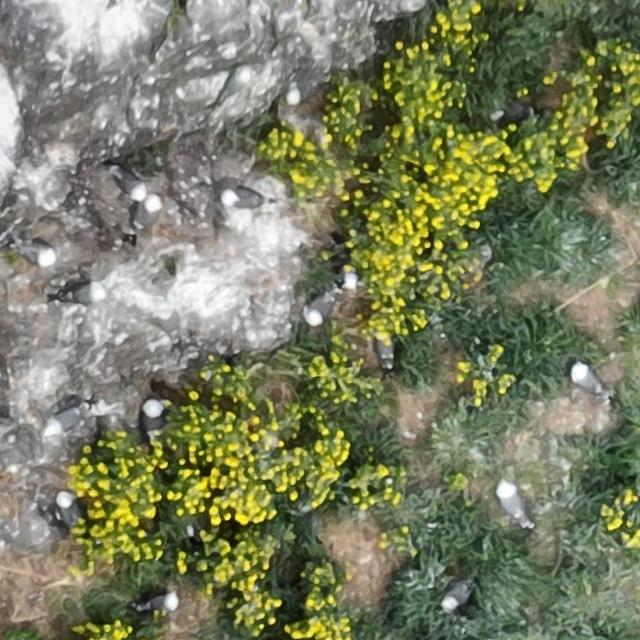umineko: (212, 64, 254, 108), (47, 403, 93, 434), (129, 194, 160, 234), (304, 290, 336, 324), (499, 484, 525, 524), (20, 240, 55, 269), (113, 172, 145, 199), (223, 189, 266, 209), (571, 365, 600, 394), (488, 101, 530, 120), (379, 323, 396, 368), (442, 580, 468, 609), (144, 400, 164, 436), (142, 591, 178, 610), (56, 492, 78, 522), (289, 82, 319, 104), (64, 284, 100, 301)
